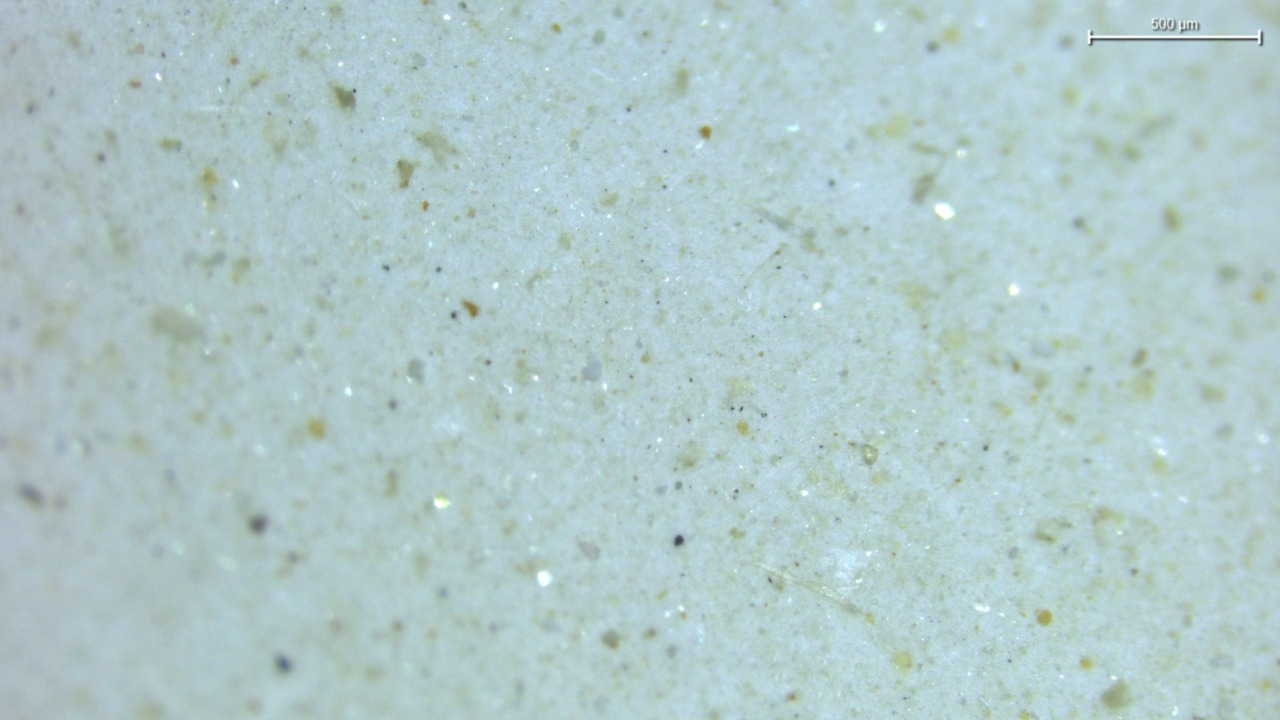microplastic_fragment: (582, 353, 602, 381)
